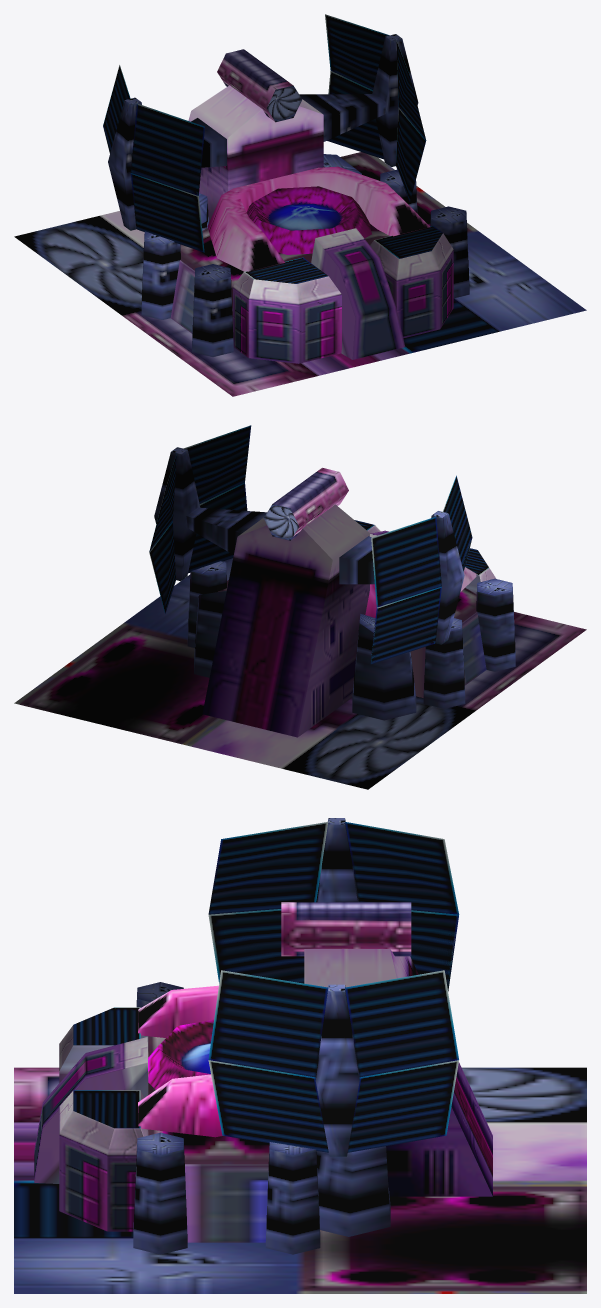
File: datan_common_gmb2_a23af8e5.obj
3 views of the same model, one above another, from view 1: azimuth 30°, elevation 25°; view 2: azimuth 150°, elevation 25°; view 3: azimuth 270°, elevation 25° (orthographic). The views are drawn at different scales.
Visible parts, largest first — view 1: datan_common_gmb2_a23af8e5_mesh00, datan_common_gmb2_a23af8e5_mesh01; view 2: datan_common_gmb2_a23af8e5_mesh00, datan_common_gmb2_a23af8e5_mesh01; view 3: datan_common_gmb2_a23af8e5_mesh00, datan_common_gmb2_a23af8e5_mesh01.
Part boxes in pixels (left/top/right/bottom): datan_common_gmb2_a23af8e5_mesh00: left=103, top=14, right=469, bottom=363; datan_common_gmb2_a23af8e5_mesh01: left=14, top=152, right=586, bottom=396; datan_common_gmb2_a23af8e5_mesh00: left=149, top=425, right=515, bottom=737; datan_common_gmb2_a23af8e5_mesh01: left=14, top=558, right=586, bottom=789; datan_common_gmb2_a23af8e5_mesh00: left=34, top=818, right=492, bottom=1254; datan_common_gmb2_a23af8e5_mesh01: left=14, top=1067, right=586, bottom=1293.
Size of the model in its own units: 30.64 by 16.71 by 32.8.
1 material, 1 textured.
